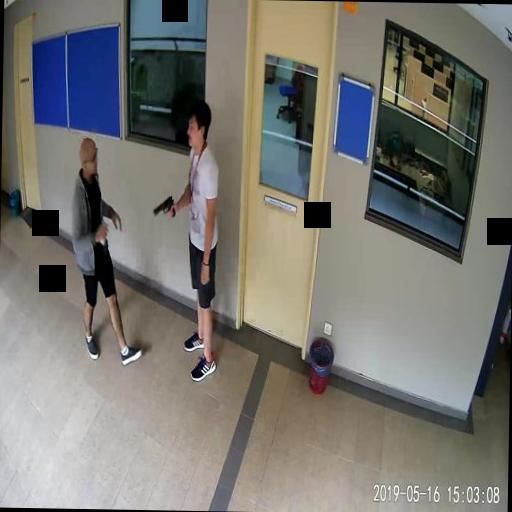Handgun: (153, 194, 174, 218)
